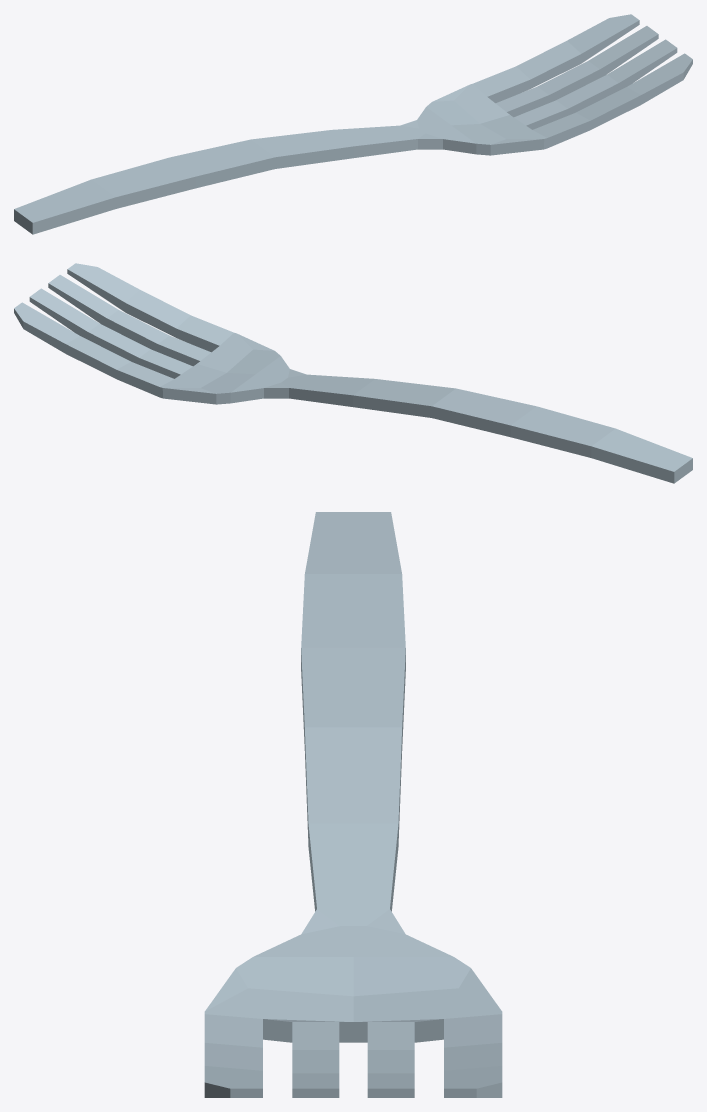
Rendered from Fork.glb.
The picture shows the model from 3 angles, top to bottom: view 1: azimuth 30°, elevation 25°; view 2: azimuth 150°, elevation 25°; view 3: azimuth 270°, elevation 25°; orthographic projection. The views are drawn at different scales.
Parts seen in each view (by area): view 1: Fork; view 2: Fork; view 3: Fork.
Boxes of the visible parts, x1=… form: Fork: x1=14, y1=14, x2=692, y2=234; Fork: x1=14, y1=263, x2=692, y2=483; Fork: x1=204, y1=512, x2=502, y2=1097.
Size of the model in its own units: 4.62 by 0.3676 by 0.9318.
